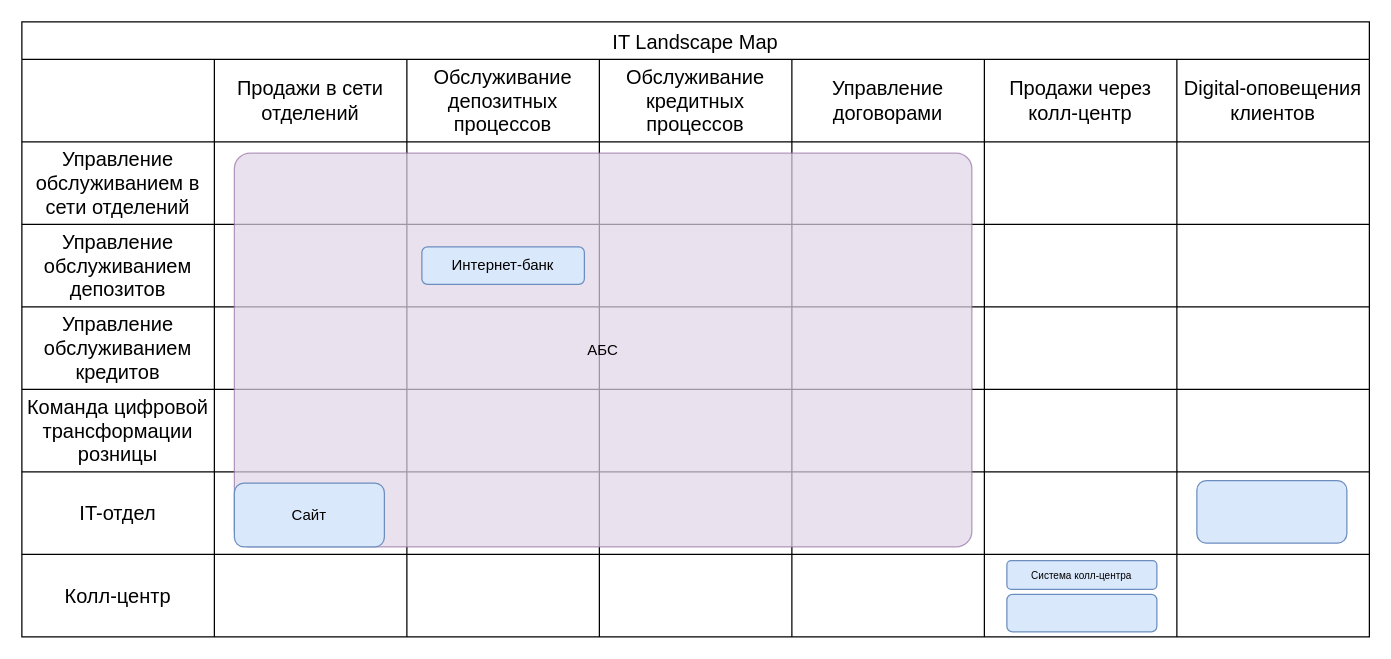
This 1391x659 diagram has some shape labels left out. The shapes that lost their labels are listed below. From the top down, each one's centre as x and y in pixels, then its label:
pixel 1271 511: СМС-шлюз телеком-оператора
pixel 1081 612: Система партнерского колл-центра
